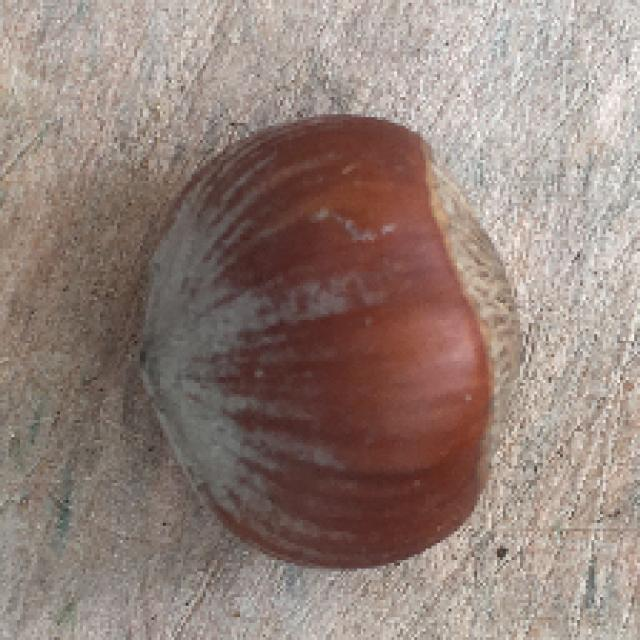DamagedHazelnut: (137, 113, 530, 569)
